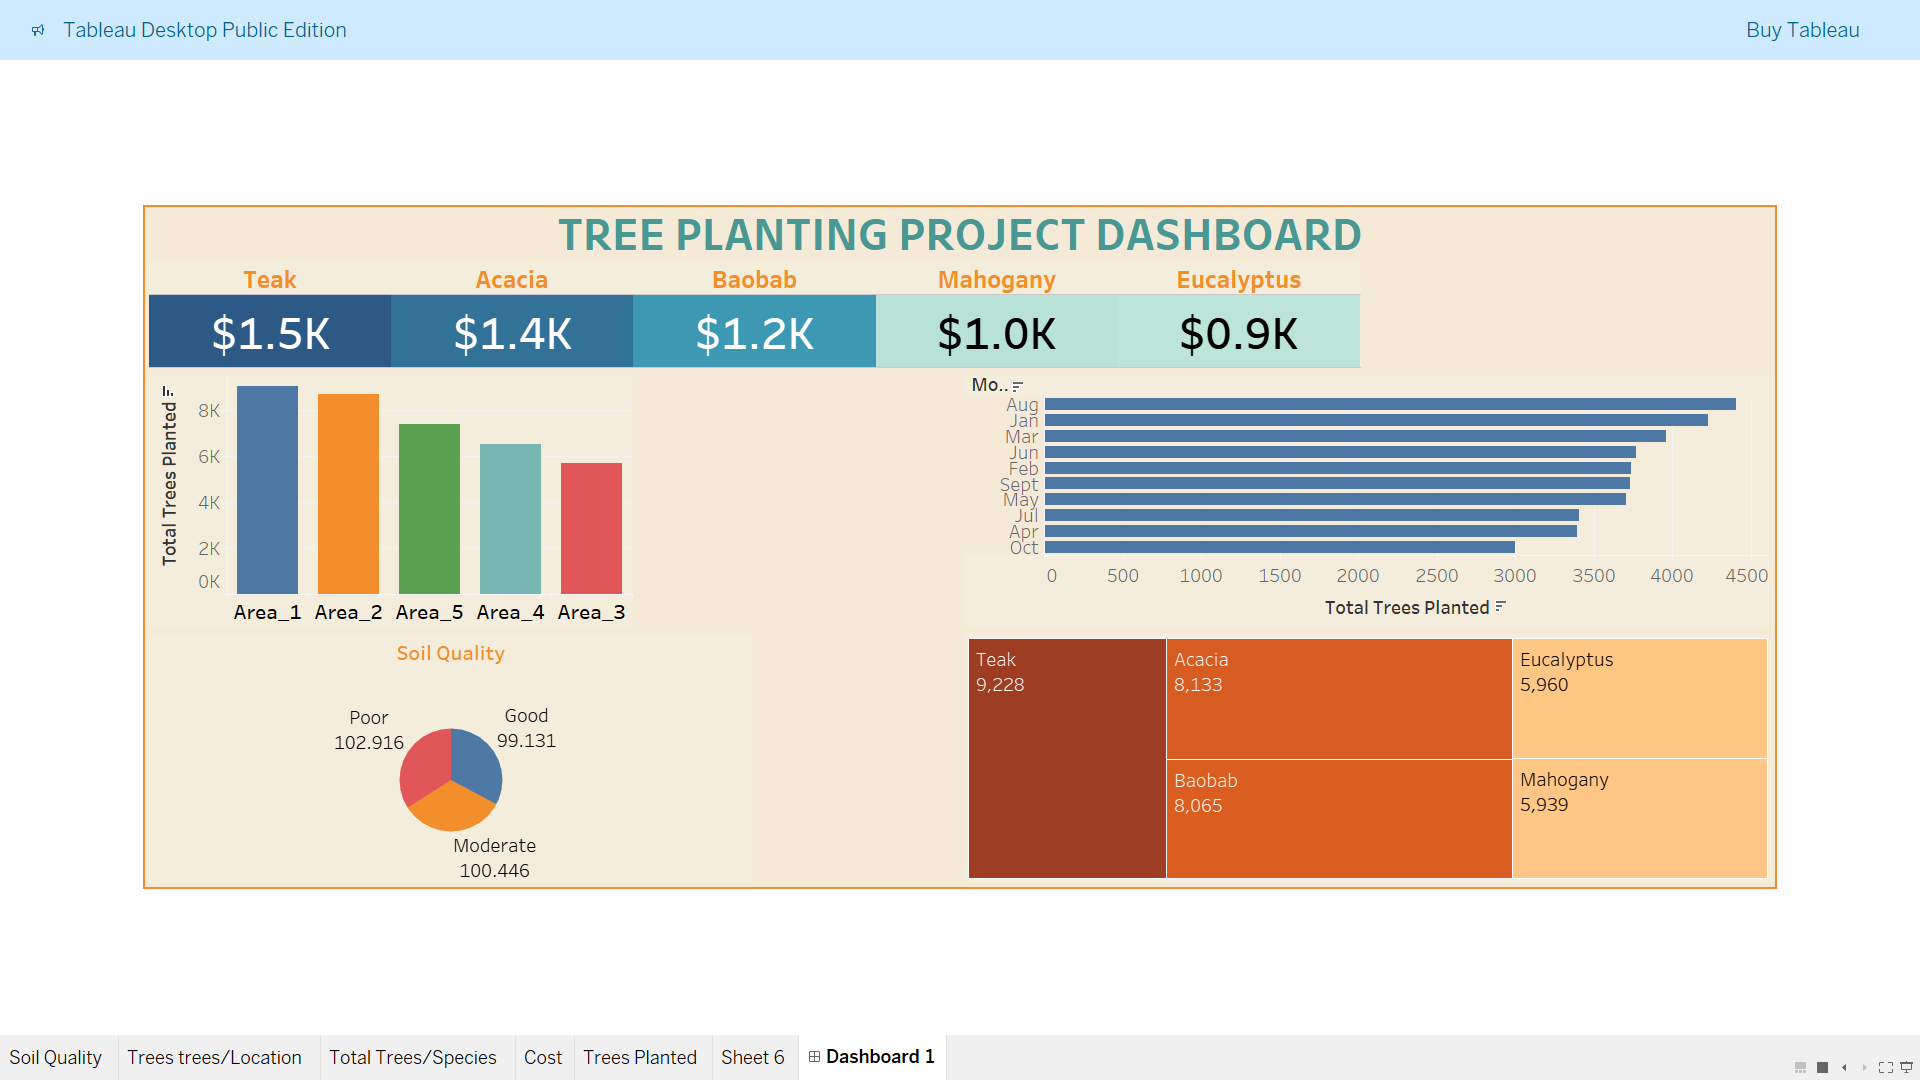

The dashboard page shown, as its layout file describes it:
{"tool":"tableau","page":{"name":"Dashboard 1","canvas":[1650,700],"ordinal":0},"visuals":[{"type":"text","box":[10,10,1630,51]},{"type":"worksheet","title":"Cost","mark":"Square","cols":["Species"],"box":[10,61,1219.9,114]},{"type":"blank","box":[1229.9,61,410,114]},{"type":"worksheet","title":"Trees trees/Location","mark":"Automatic","rows":["Total_Trees_Planted"],"cols":["Location"],"box":[10,175,815,258]},{"type":"worksheet","title":"Trees Planted","mark":"Bar","rows":["Planting_Date"],"cols":["Total_Trees_Planted"],"box":[825,175,815,258]},{"type":"worksheet","title":"Soil Quality","mark":"Pie","box":[10,433,612,257]},{"type":"blank","box":[622,433,203,257]},{"type":"worksheet","title":"Total Trees/Species","mark":"Automatic","box":[825,433,815,257]}]}

Visuals, with their boxes on the page's 1650x700 design canvas (x1, y1, x2, y2). These are canvas units, not pixel positions in the 1920x1080 screenshot, which may show the page scaled, cropped or inside an application window:
text: left=10, top=10, right=1640, bottom=61
"Cost" worksheet (Square marks): left=10, top=61, right=1230, bottom=175
blank: left=1230, top=61, right=1640, bottom=175
"Trees trees/Location" worksheet: left=10, top=175, right=825, bottom=433
"Trees Planted" worksheet (Bar marks): left=825, top=175, right=1640, bottom=433
"Soil Quality" worksheet (Pie marks): left=10, top=433, right=622, bottom=690
blank: left=622, top=433, right=825, bottom=690
"Total Trees/Species" worksheet: left=825, top=433, right=1640, bottom=690
